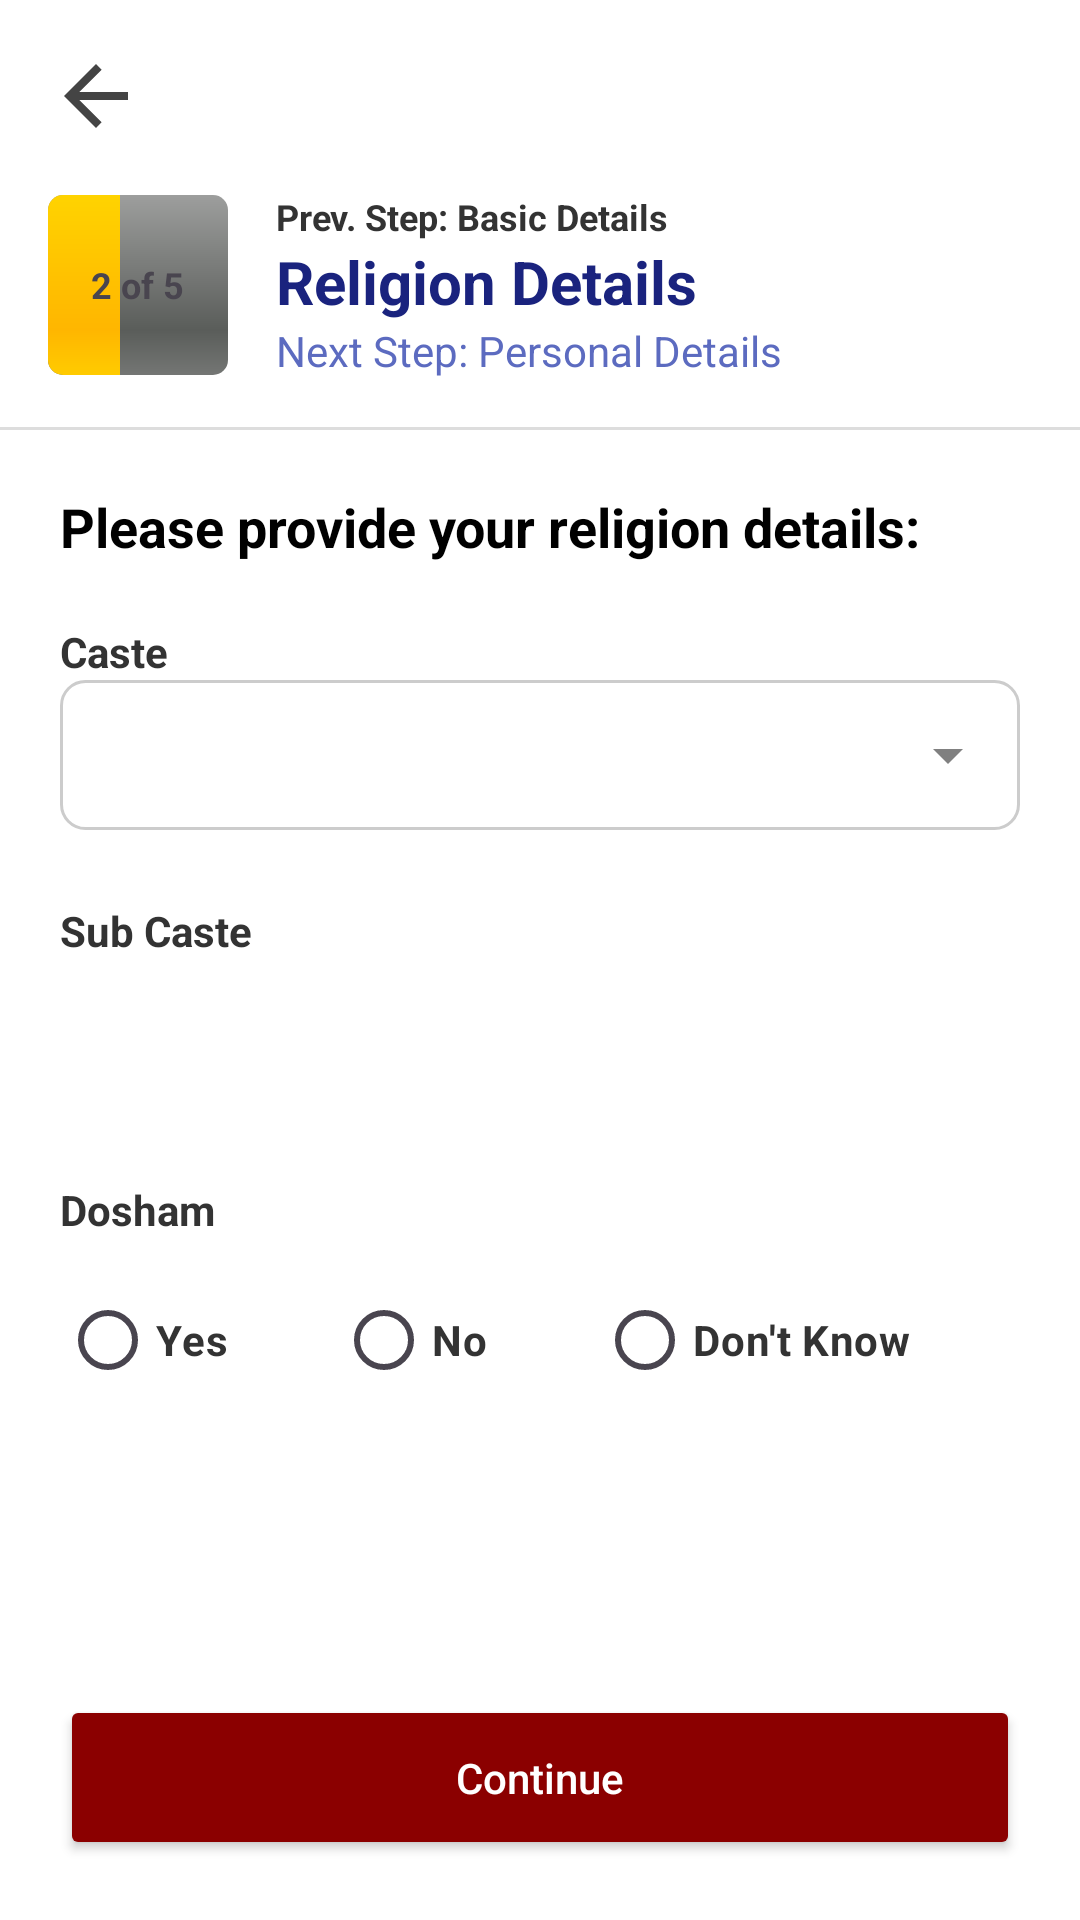

Named icons in this screenshot (1080 x 1920) and their centers, (x,y):
back: (96,96)
